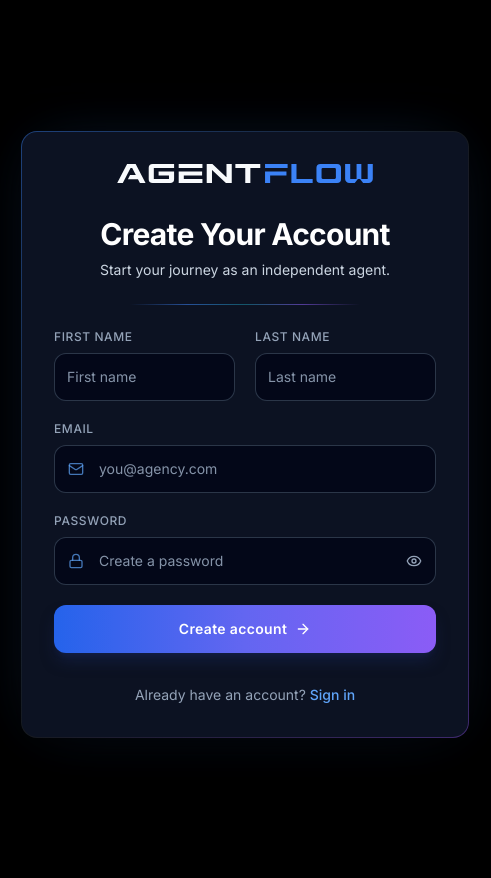
SignupPage (/signup) › failure and in-flight handling › renders the mapped auth error in the alert region and does not navigate
Type "Grace" into the field labelled "First name". click: (144, 376)
box: [54,352,235,400]
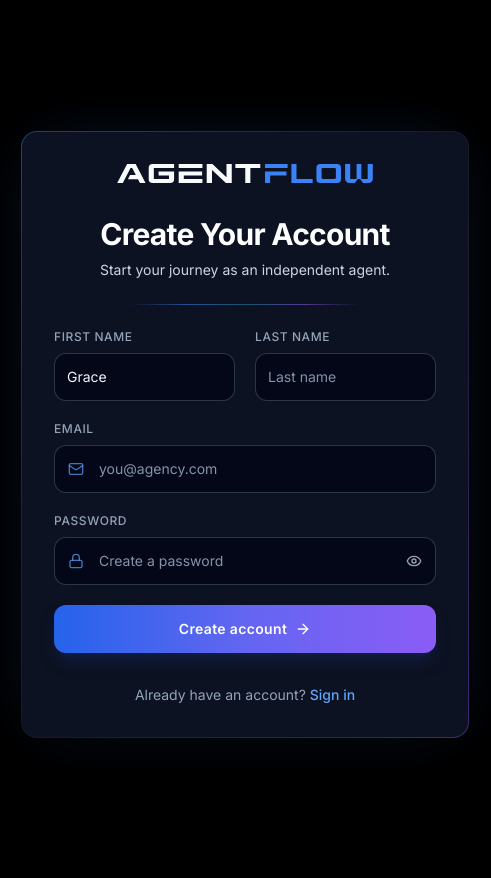
Type "Hopper" into the field labelled "Last name". click: (346, 376)
box: [255,352,436,400]
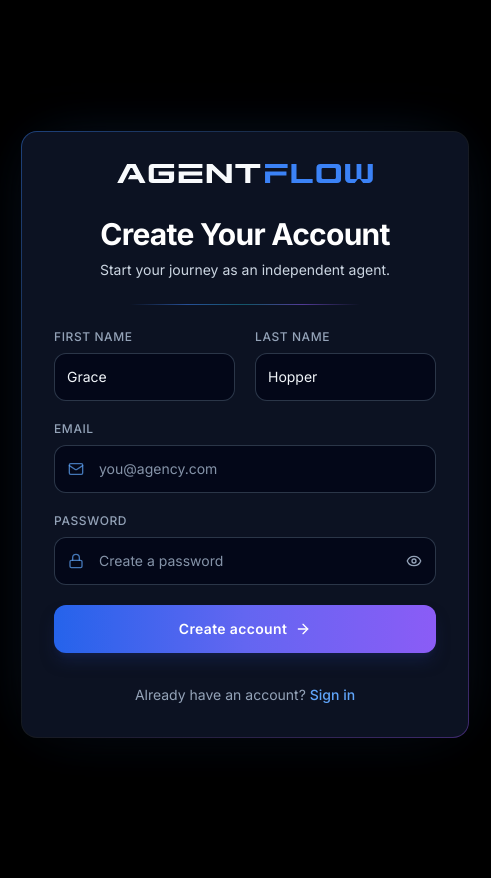
Type "grace@agency.com" into the field labelled "Email". click: (245, 468)
box: [54,444,436,492]
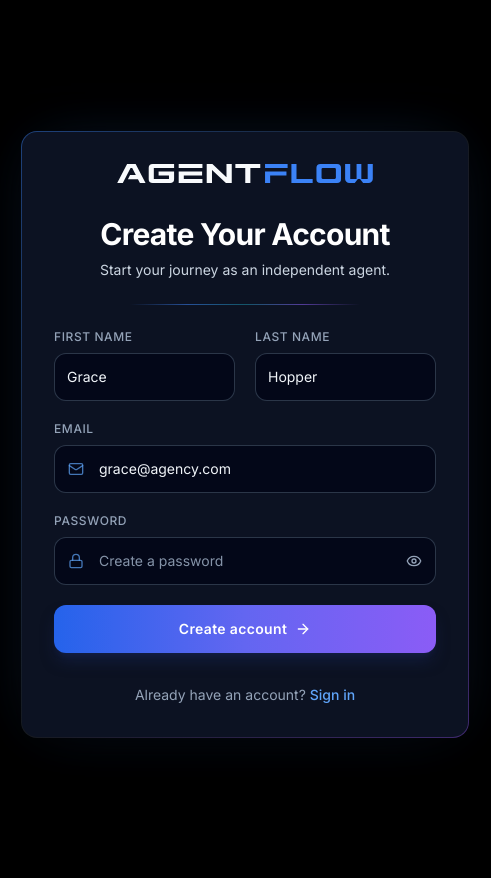
Type "Passw0rd!" into the password field labelled "Password". click: (245, 560)
box: [54,536,436,584]
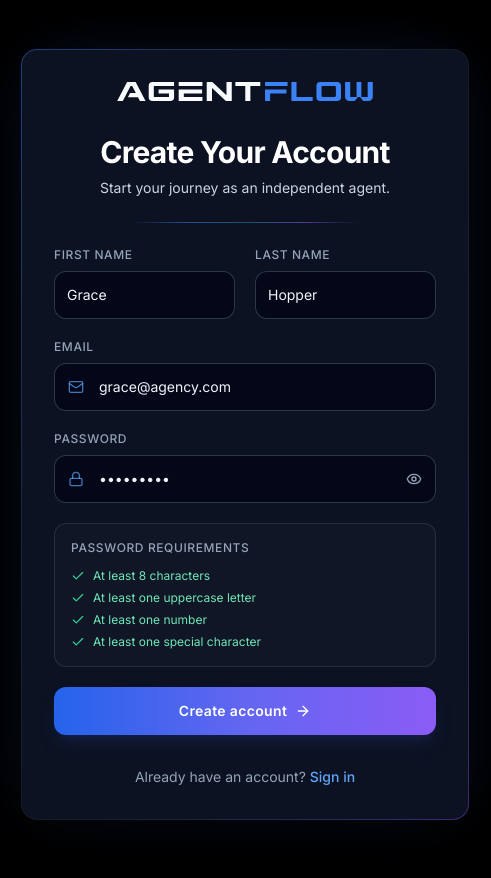
Click the button "Create account". click: (245, 710)
box: [54,686,436,734]
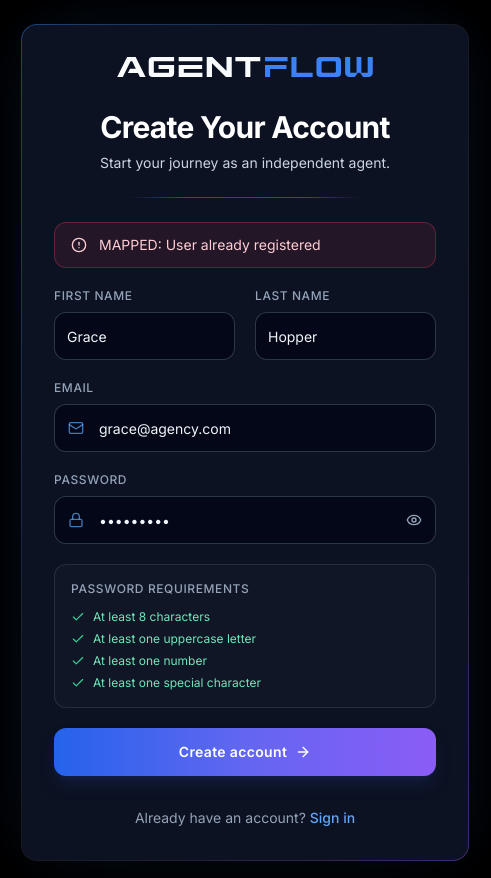
Expected: the button "Create account" is enabled, [54,728,436,776]
Expected: the message reads "MAPPED: User already registered", [99,236,321,253]
